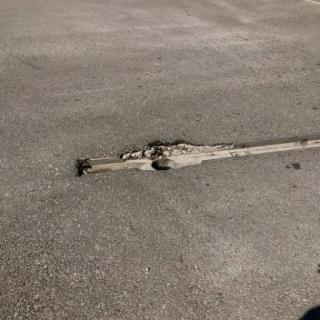pothole: (76, 136, 320, 178)
